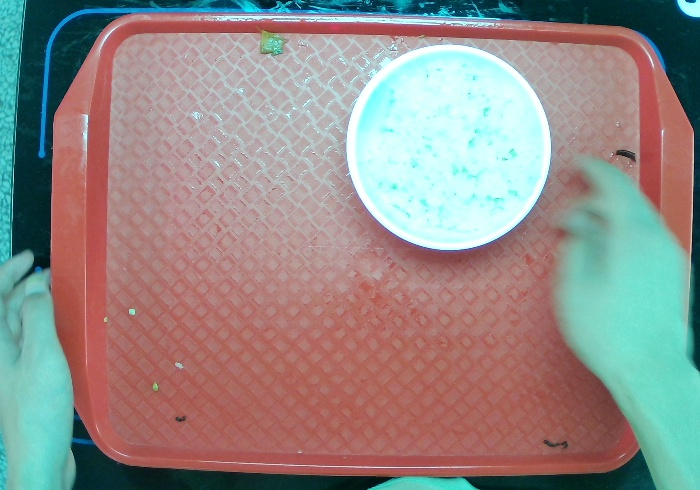YKMZ-Fan_Wan: (343, 45, 562, 259)
